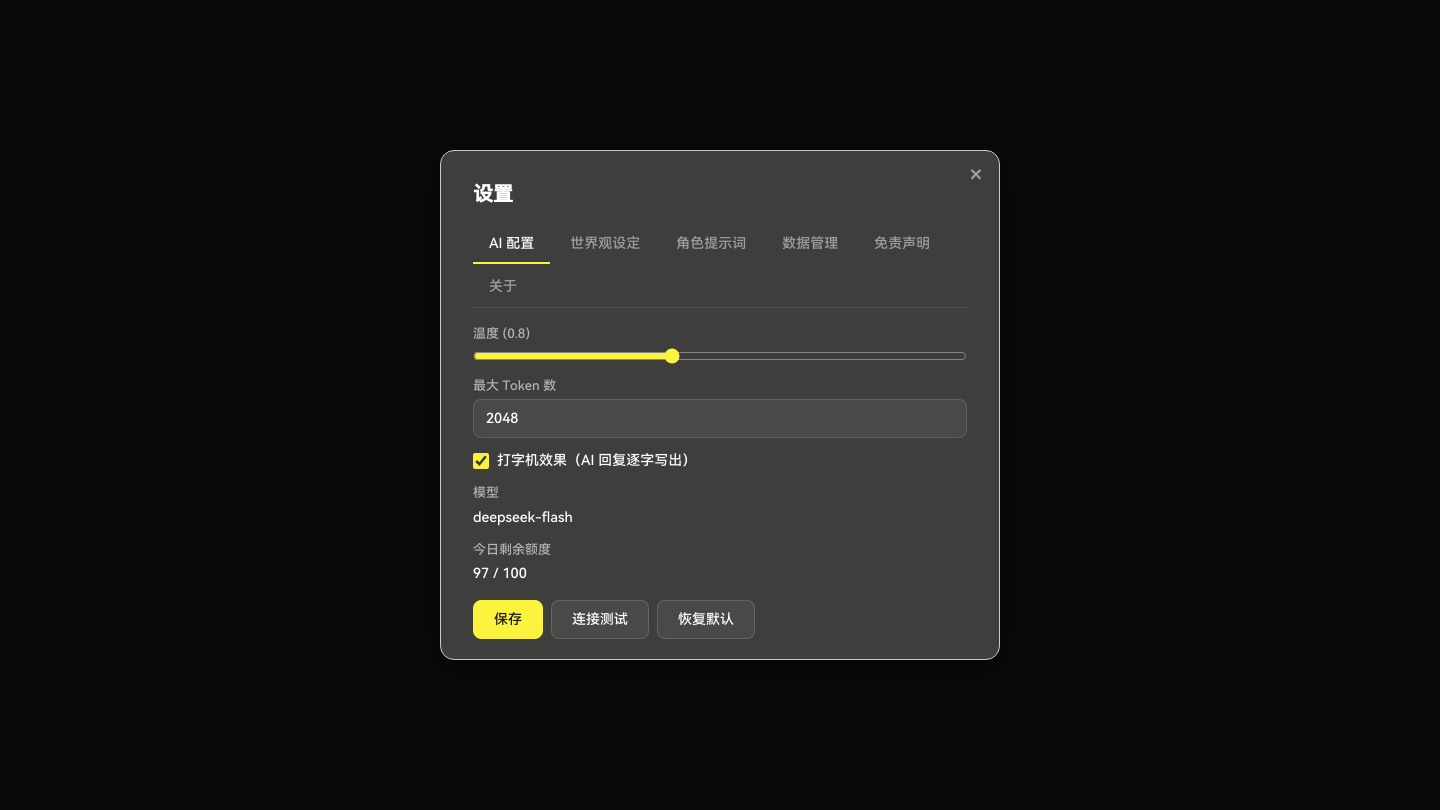
SettingsDialog › 切换角色显示对应提示词；未选中会话时不可编辑
Click the tab "角色提示词" at coordinates (711, 244), box left=660, top=225, right=762, bottom=264
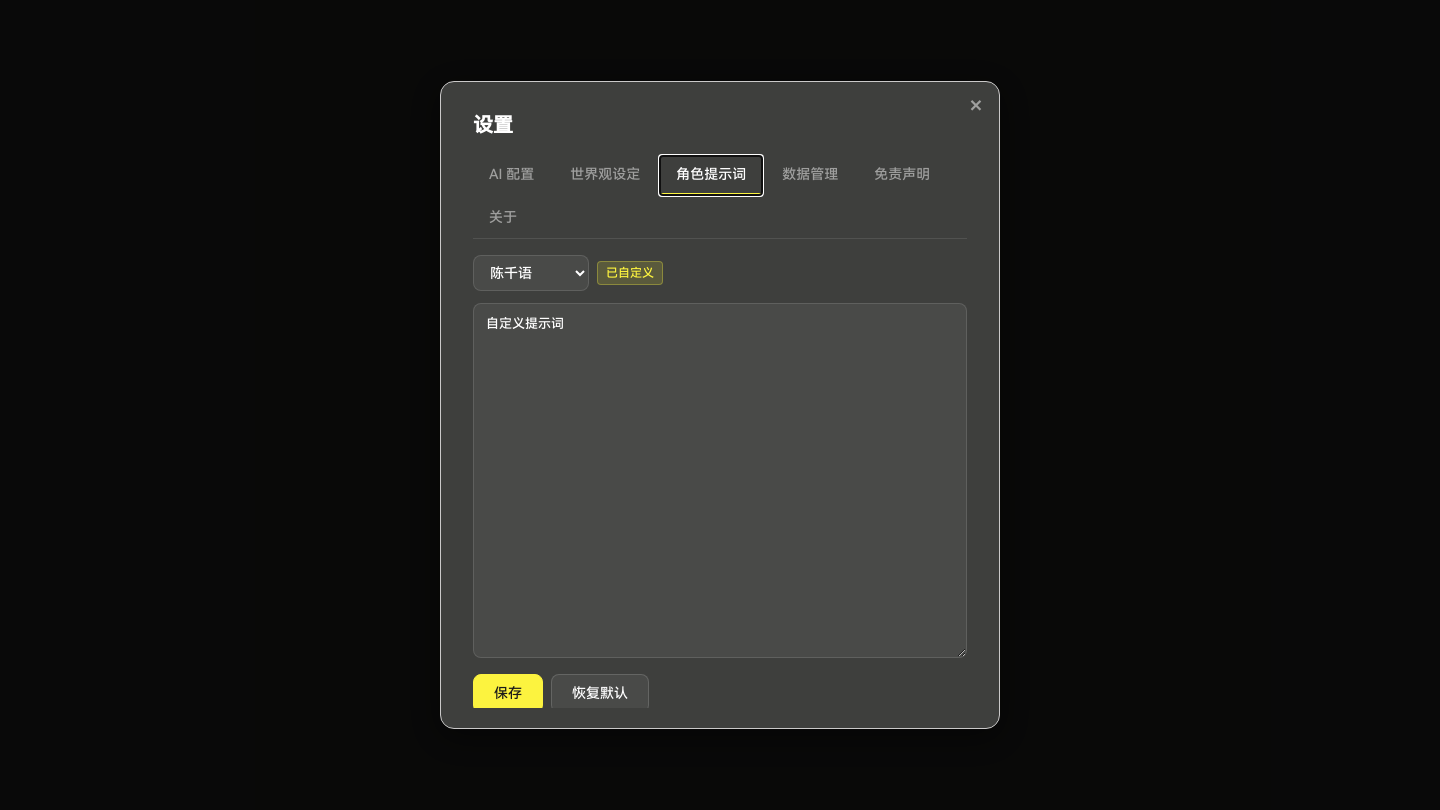
Select "洛茜" in the dropdown named "角色" at coordinates (531, 273), box left=473, top=255, right=589, bottom=291
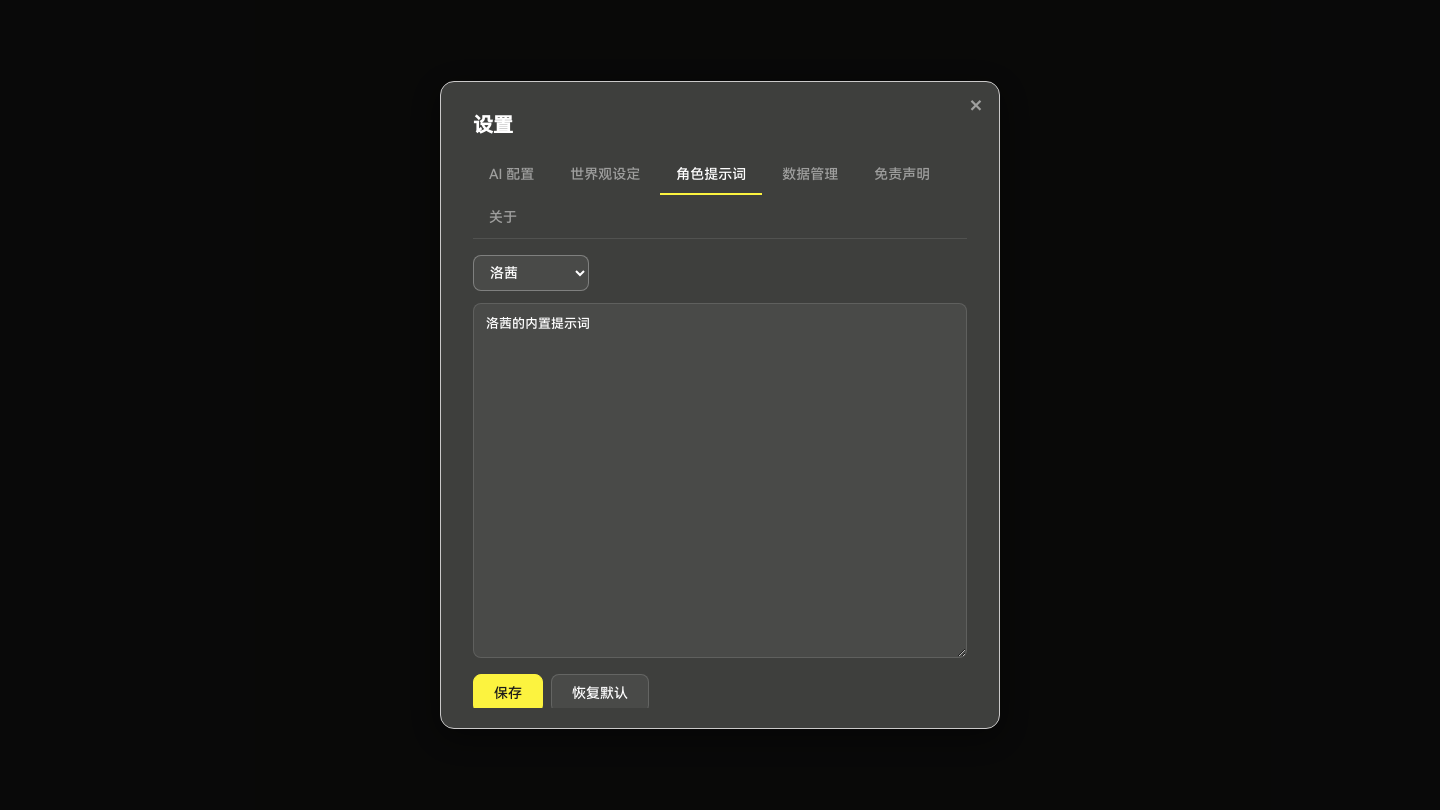
Result: the text box named "角色提示词" holds "洛茜的内置提示词" at left=473, top=303, right=967, bottom=658
Result: the text "已自定义" is gone
